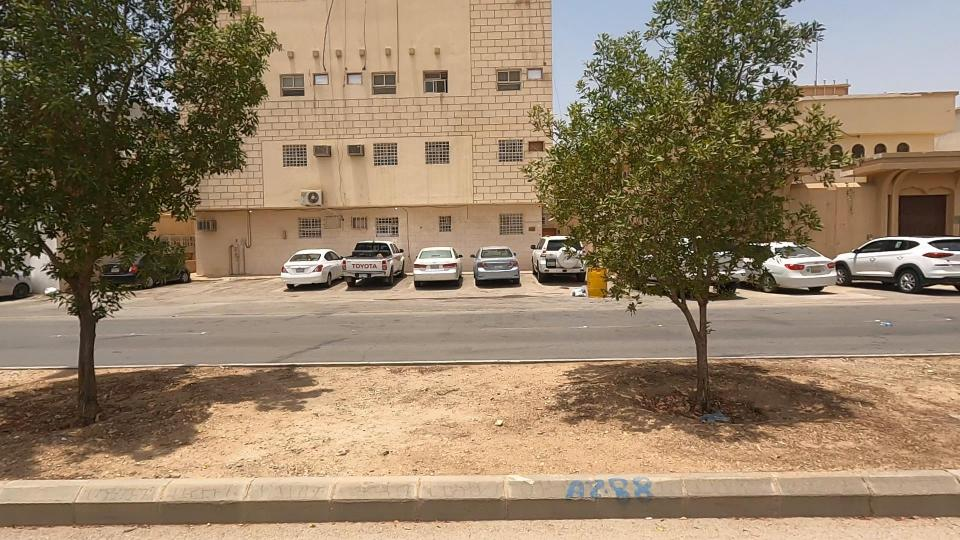GARBAGE: (652, 392, 778, 448), (856, 306, 922, 342)
